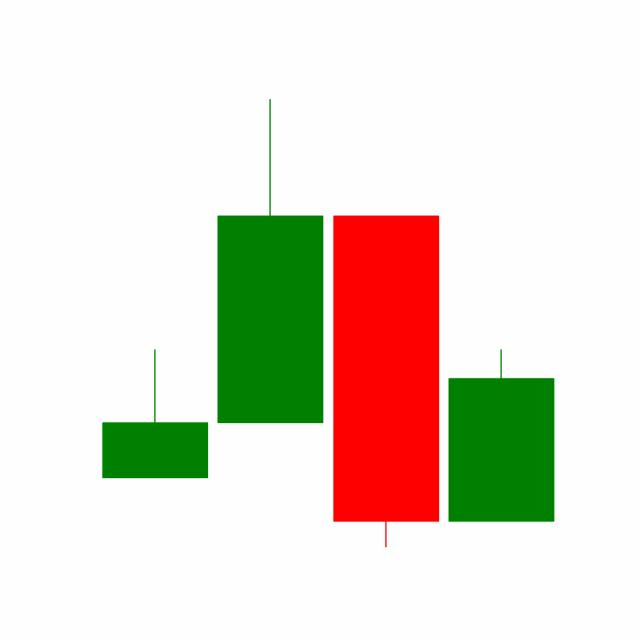Marubozu: (328, 212, 444, 551)
